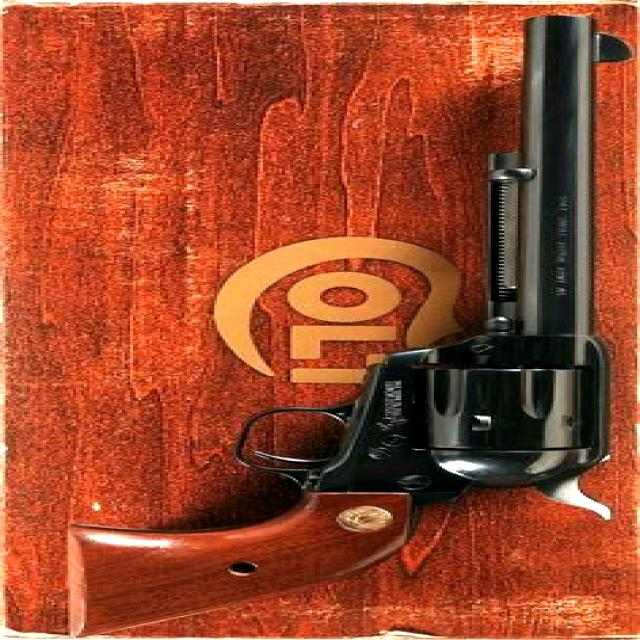revolver: (28, 12, 633, 640)
